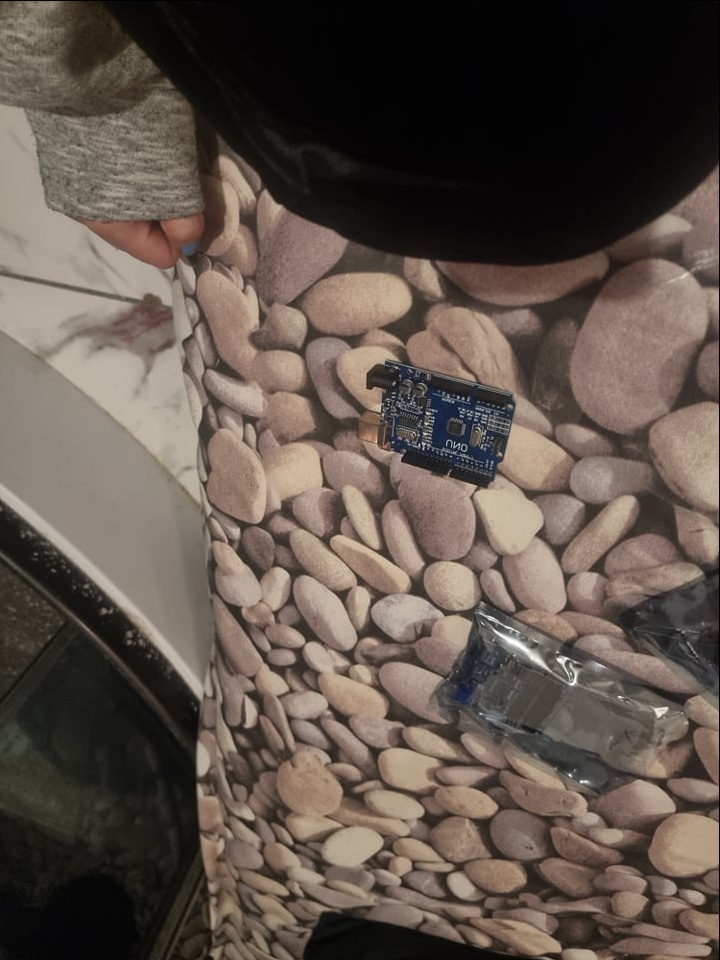UNO R3: (358, 360, 521, 489)
